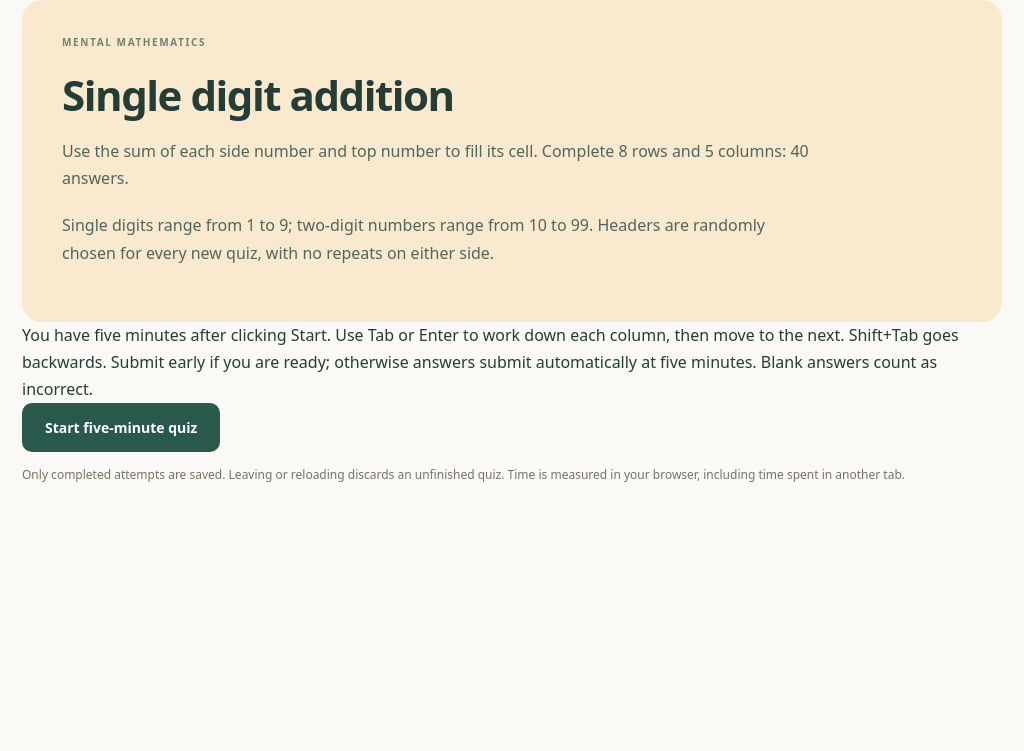
Mental Mathematics quiz › renders precisely 8 answer rows and 5 columns with accessible headers and focuses the first cell
Click the button "Start five-minute quiz" at (121, 428), box [22,403,220,452]
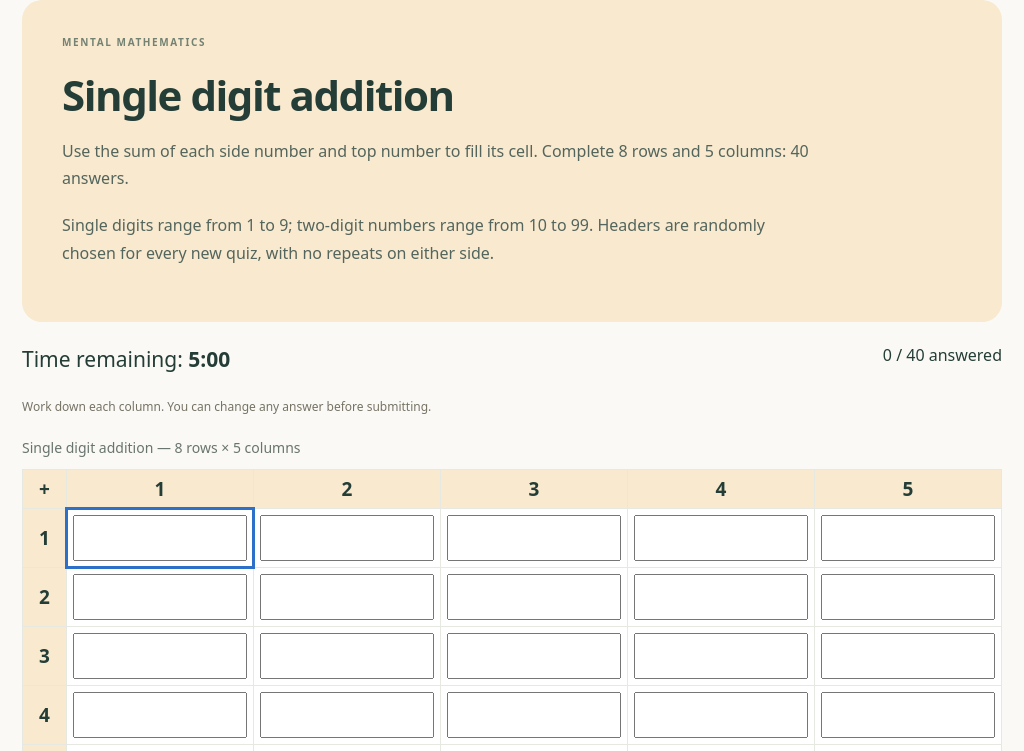
Result: the number of fields is 40
Result: the element showing "Time remaining: 5:00" is shown at [22,342,230,378]
